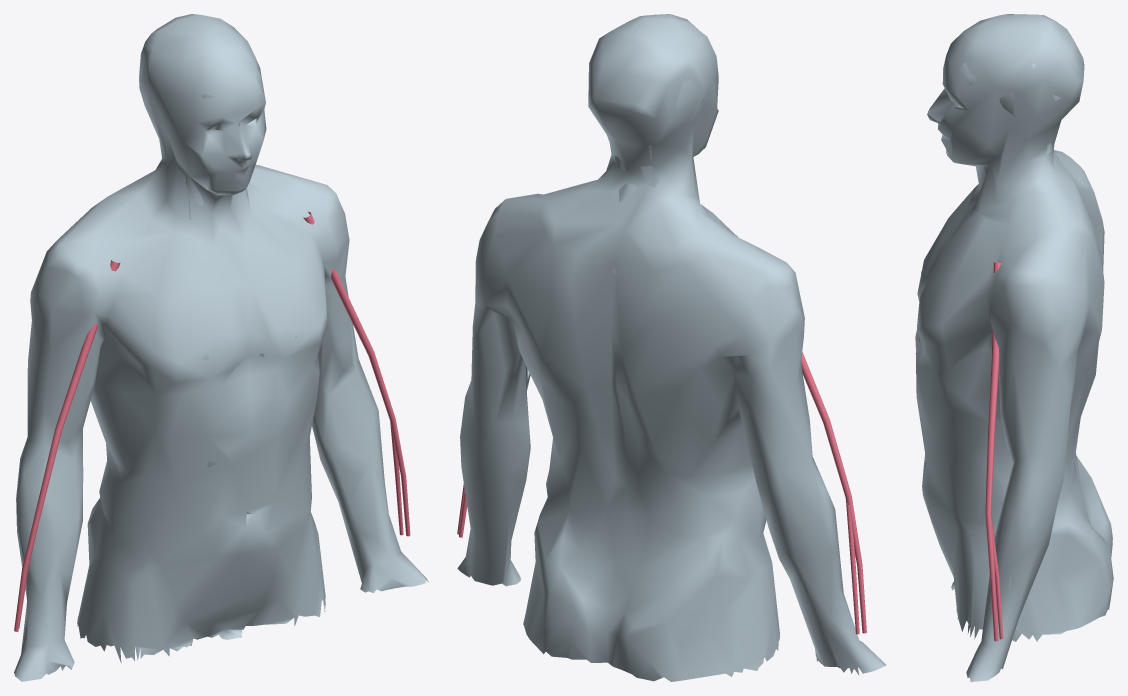
File: anatomical_body_heart.glb
3 views of the same model, side by side, from view 1: azimuth 30°, elevation 25°; view 2: azimuth 150°, elevation 25°; view 3: azimuth 270°, elevation 25° (orthographic). The views are drawn at different scales.
Parts seen in each view (by area): view 1: BodyTorso, BloodVessels; view 2: BodyTorso, BloodVessels; view 3: BodyTorso, BloodVessels.
Part boxes in pixels (<box>): BodyTorso: <box>14,14,428,681</box>; BloodVessels: <box>14,211,410,631</box>; BodyTorso: <box>457,14,886,681</box>; BloodVessels: <box>457,352,866,634</box>; BodyTorso: <box>915,14,1113,681</box>; BloodVessels: <box>985,262,1003,641</box>.
Bounding box in the file's own units: 9.58 × 13.38 × 4.18.
